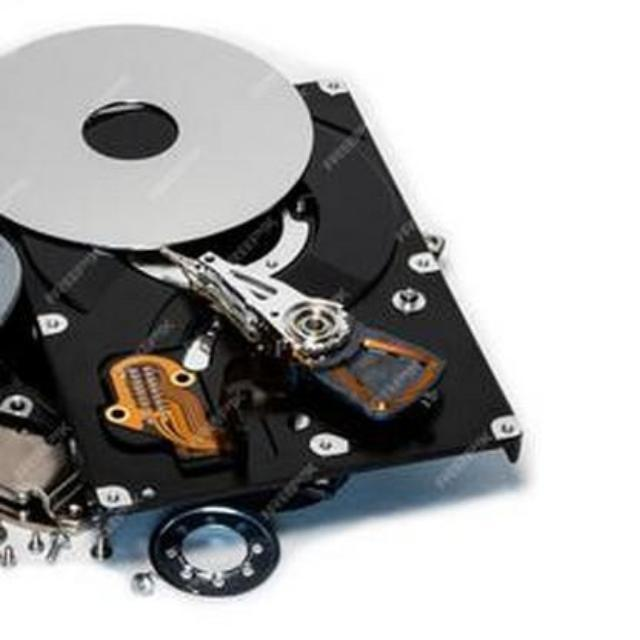DISK: (0, 16, 545, 570)
